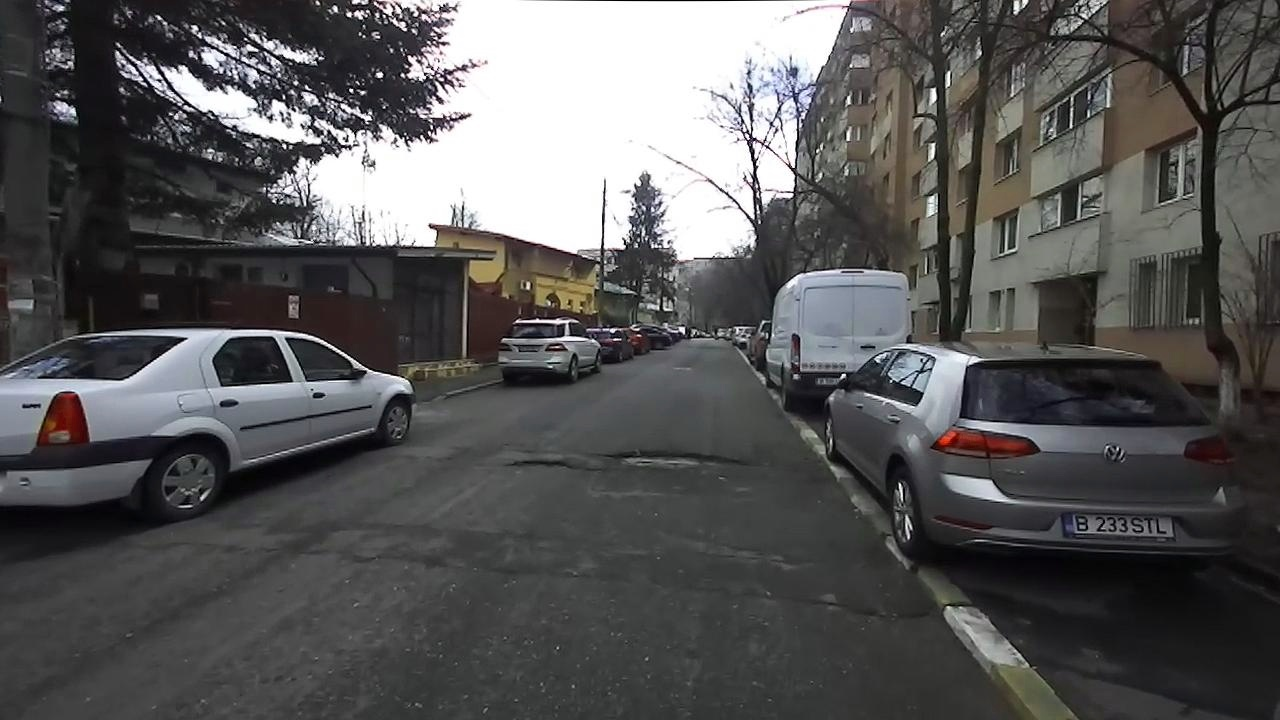pothole: (599, 446, 754, 474), (806, 596, 930, 626), (502, 454, 577, 469)
